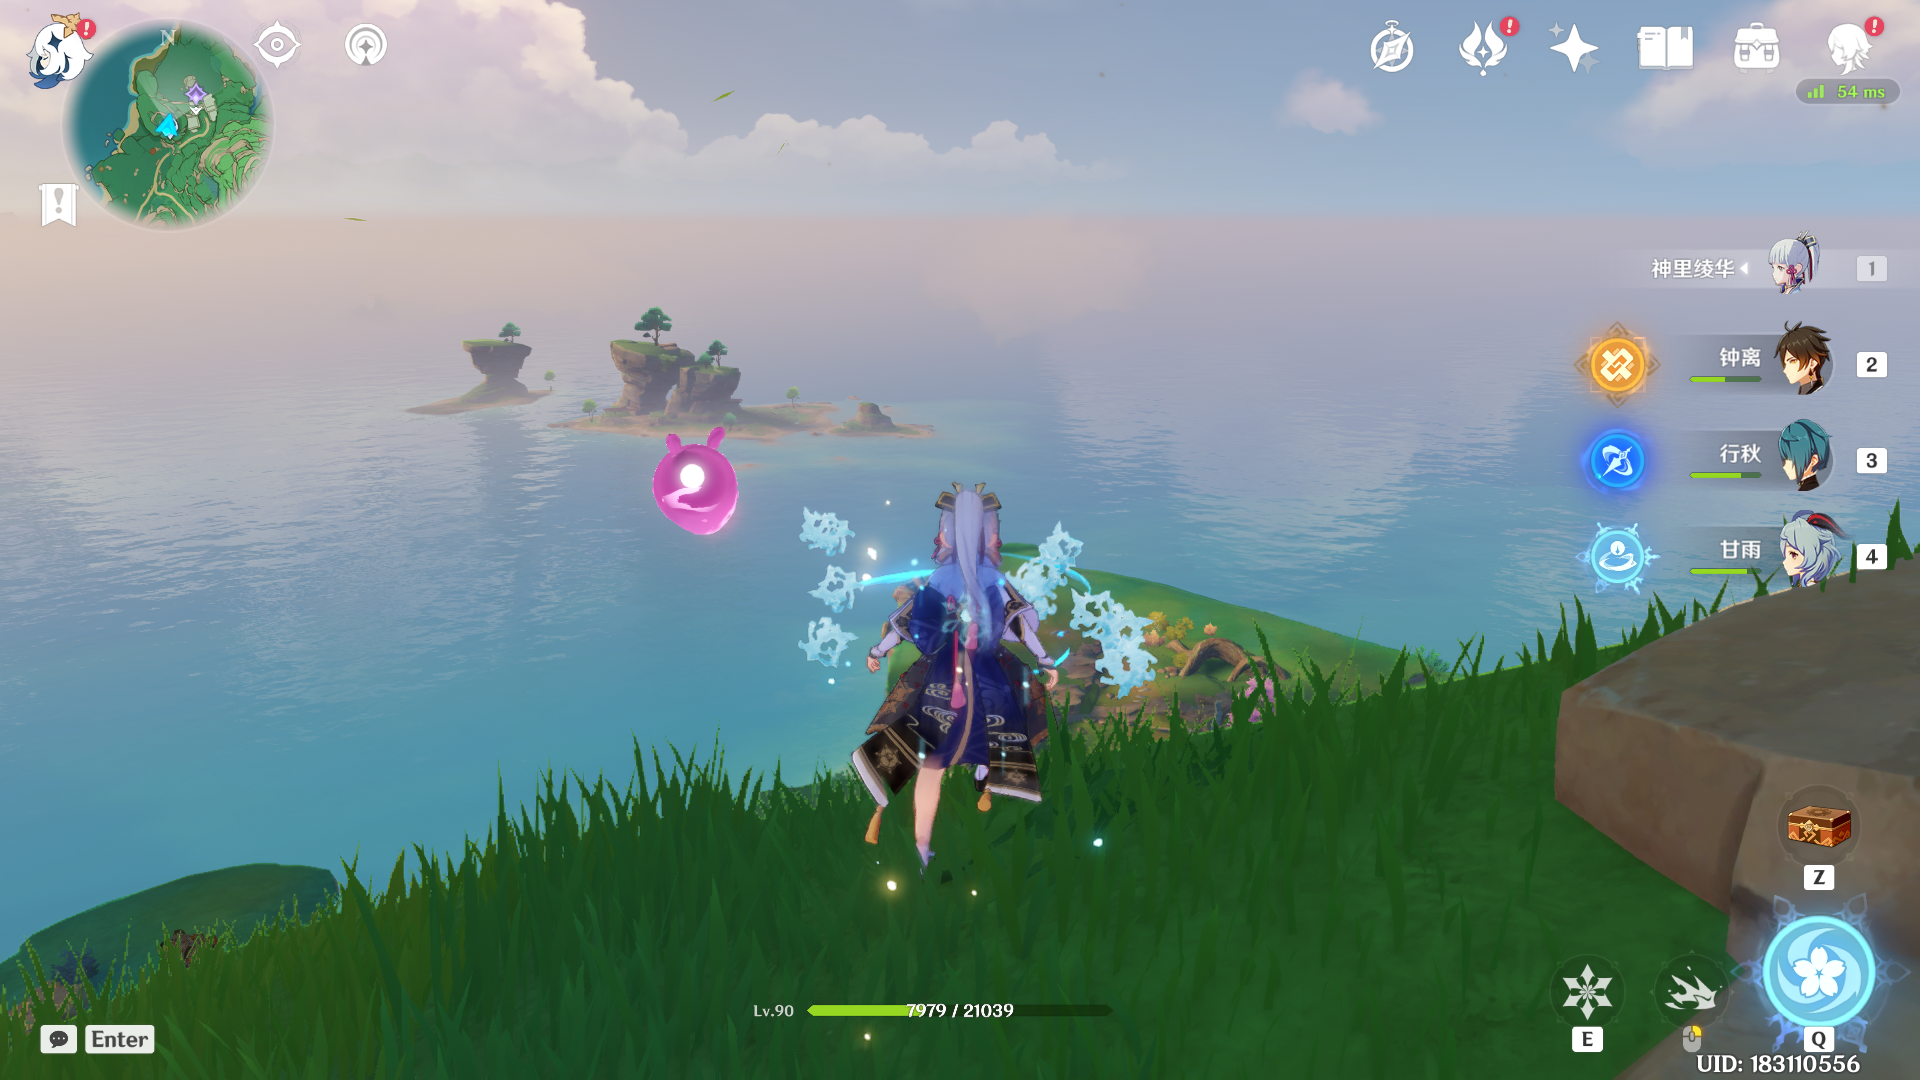character: (796, 436, 1112, 956)
